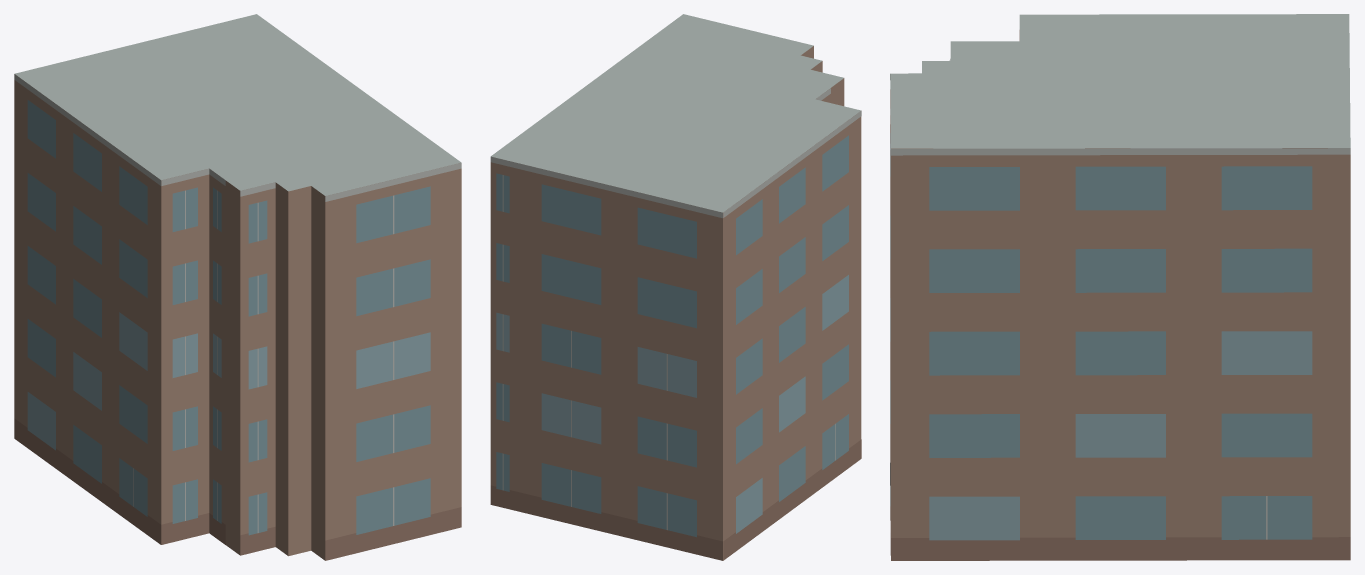
The model's file is survey-upis-32956463.glb.
The picture shows the model from 3 angles, left to right: view 1: azimuth 30°, elevation 25°; view 2: azimuth 150°, elevation 25°; view 3: azimuth 270°, elevation 25°; orthographic projection. The views are drawn at different scales.
Parts seen in each view (by area): view 1: survey-upis-32956463.tmp; view 2: survey-upis-32956463.tmp; view 3: survey-upis-32956463.tmp.
Boxes of the visible parts, x1,y1,x2,y2 form: survey-upis-32956463.tmp: (14,14,461,560); survey-upis-32956463.tmp: (490,14,861,560); survey-upis-32956463.tmp: (890,14,1350,560).
Bounding box in the file's own units: 10.5 × 14.95 × 15.15.
